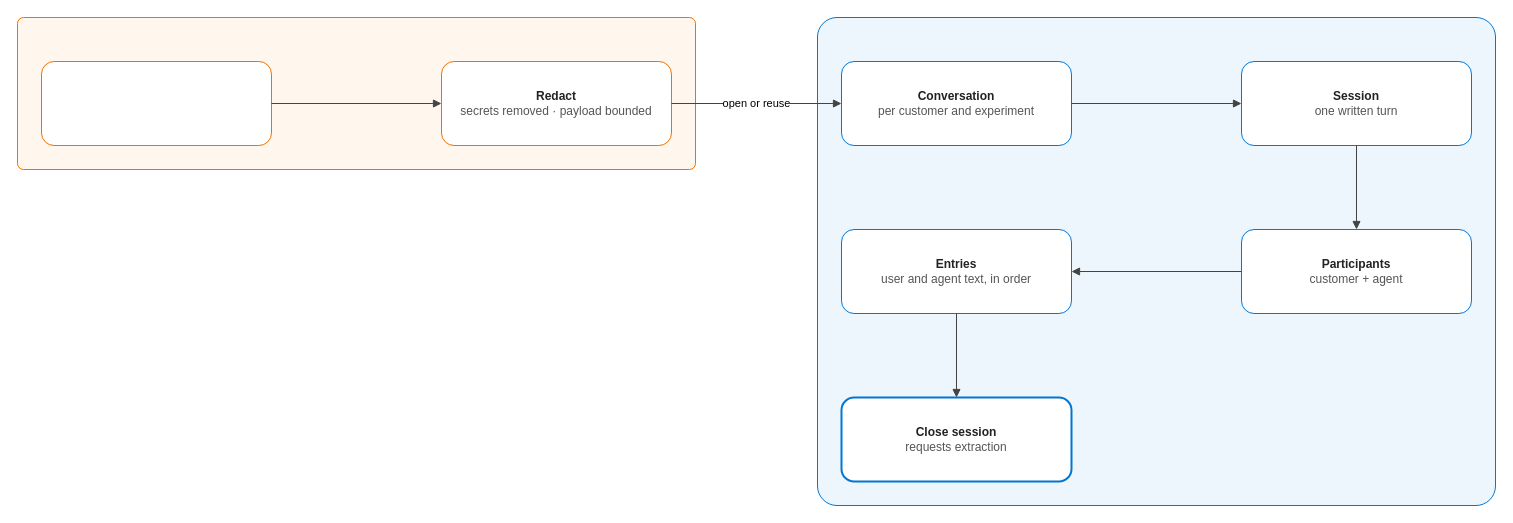
Some shapes in this 1513 by 523 pixel diagram are drawn without their labels. The box of each missing label's shape, as (x1, y1, x2, y2) in pixels:
Agent face server-side memory seam: (40, 60, 272, 146)
Agent face · AWS us-east-1: (16, 16, 696, 170)
Agentic Memory API · A2ALab_Memory_Case: (816, 16, 1496, 506)
